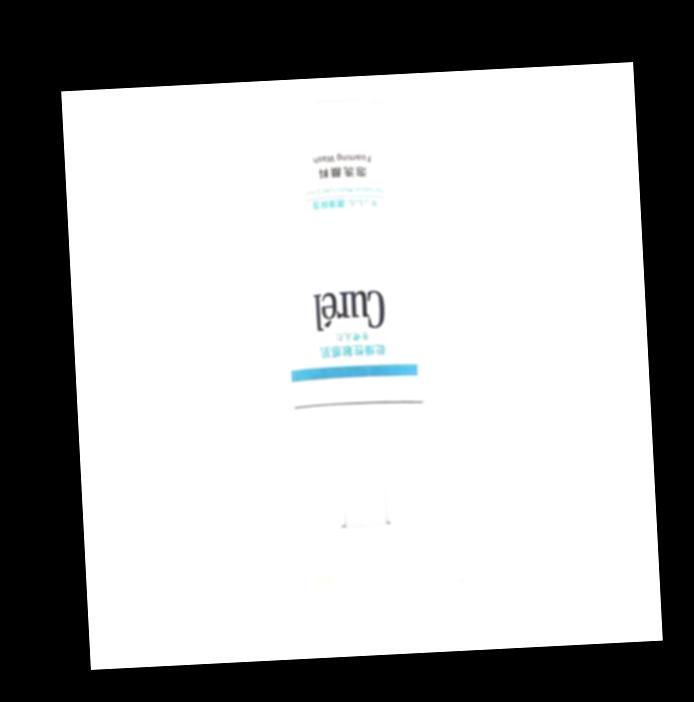cosmetic: (245, 98, 471, 620)
